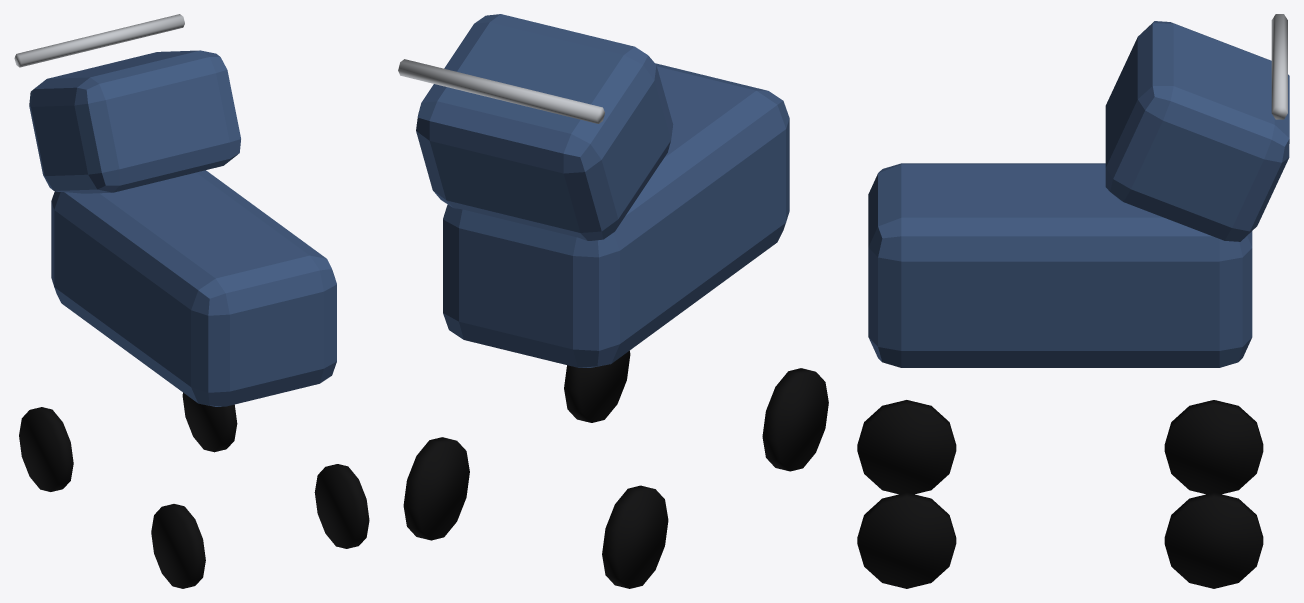
File: stroller.glb
3 views of the same model, side by side, from view 1: azimuth 30°, elevation 25°; view 2: azimuth 150°, elevation 25°; view 3: azimuth 270°, elevation 25° (orthographic). The views are drawn at different scales.
Visible parts, largest first — view 1: stroller; view 2: stroller; view 3: stroller.
Part boxes in pixels (x1=…): stroller: x1=14, y1=14, x2=369, y2=588; stroller: x1=398, y1=14, x2=828, y2=588; stroller: x1=857, y1=14, x2=1289, y2=588.
Bounding box in the file's own units: 0.43 × 0.9744 × 0.7876.
1 material, 1 textured.
